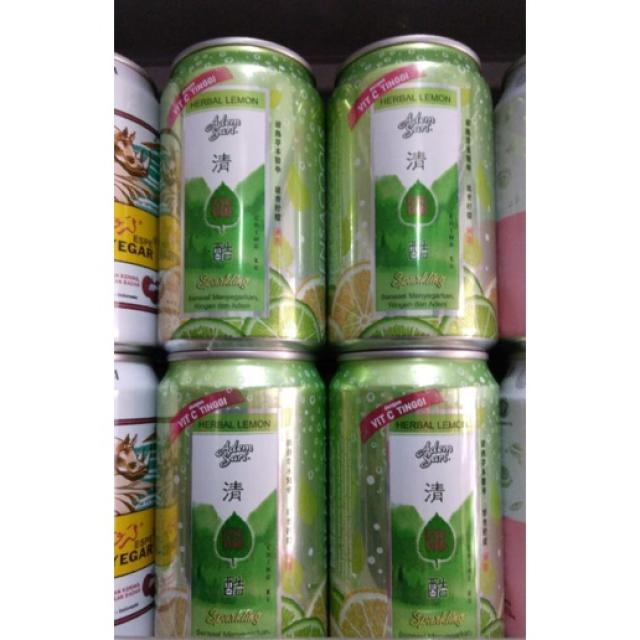ademsarikaleng: (326, 32, 499, 351), (156, 35, 326, 352)
